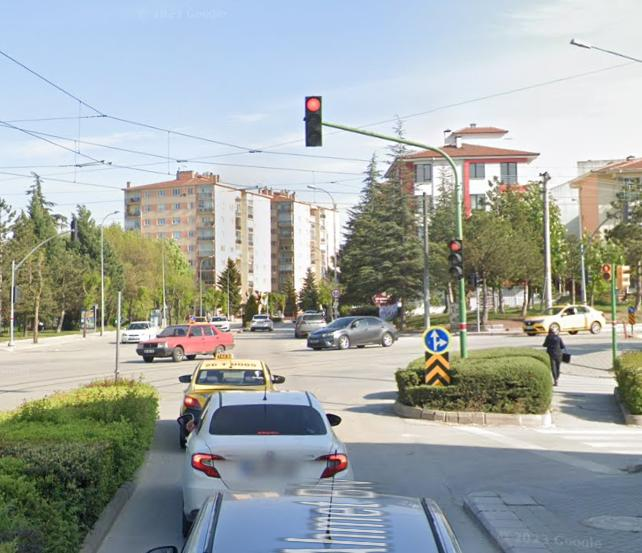redlight: (301, 94, 326, 149), (446, 235, 468, 286)
